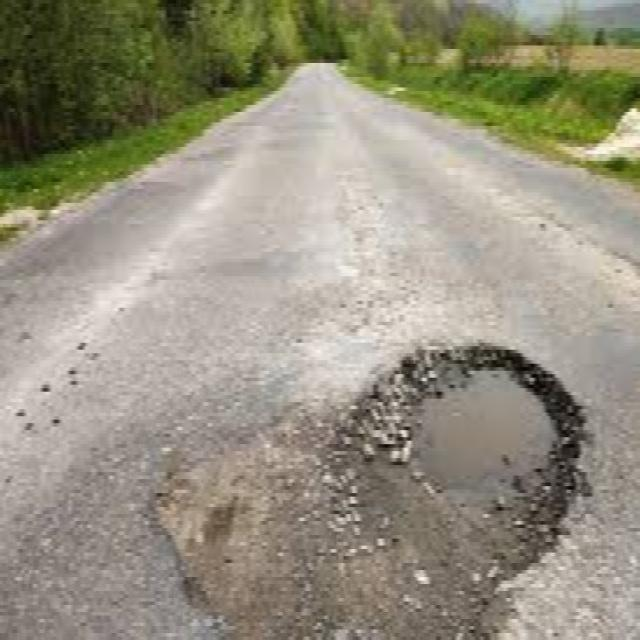Pothole: (147, 326, 597, 640)
